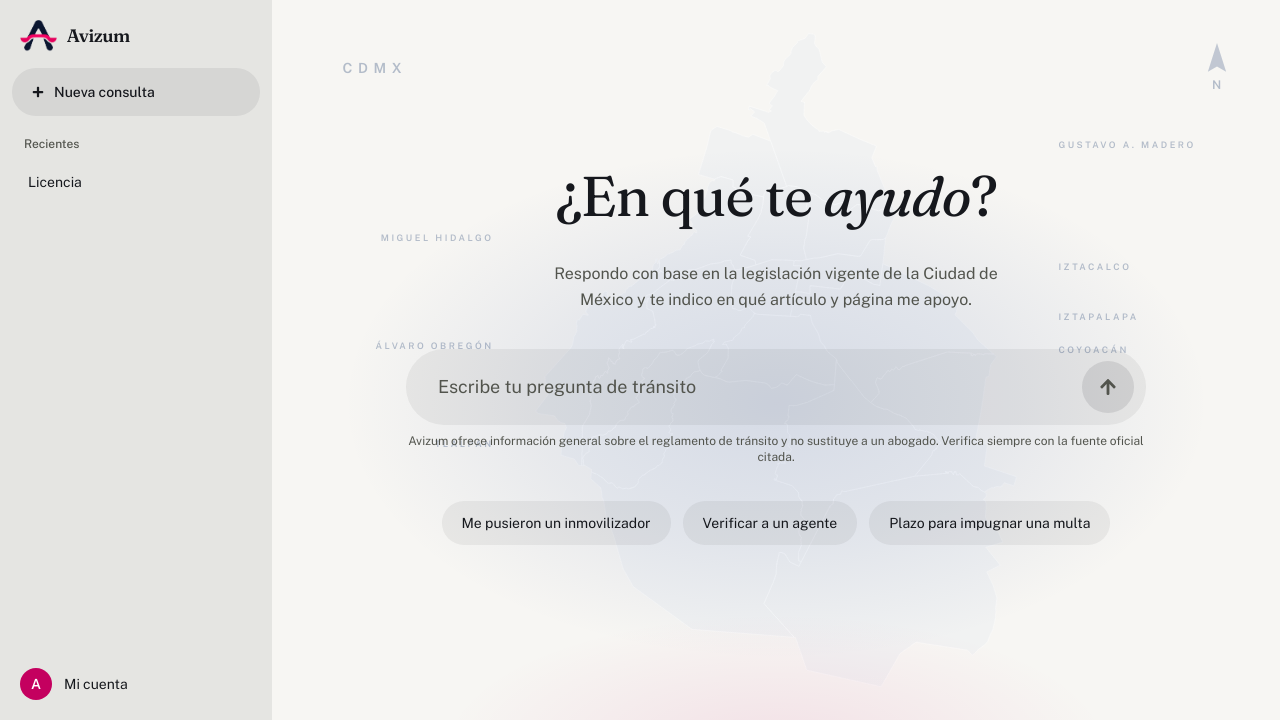
Scenario: opening an existing conversation shows its saved messages with citations and votes
Click the button "Licencia" at {"x": 107, "y": 182}, box [12,160,202,204]
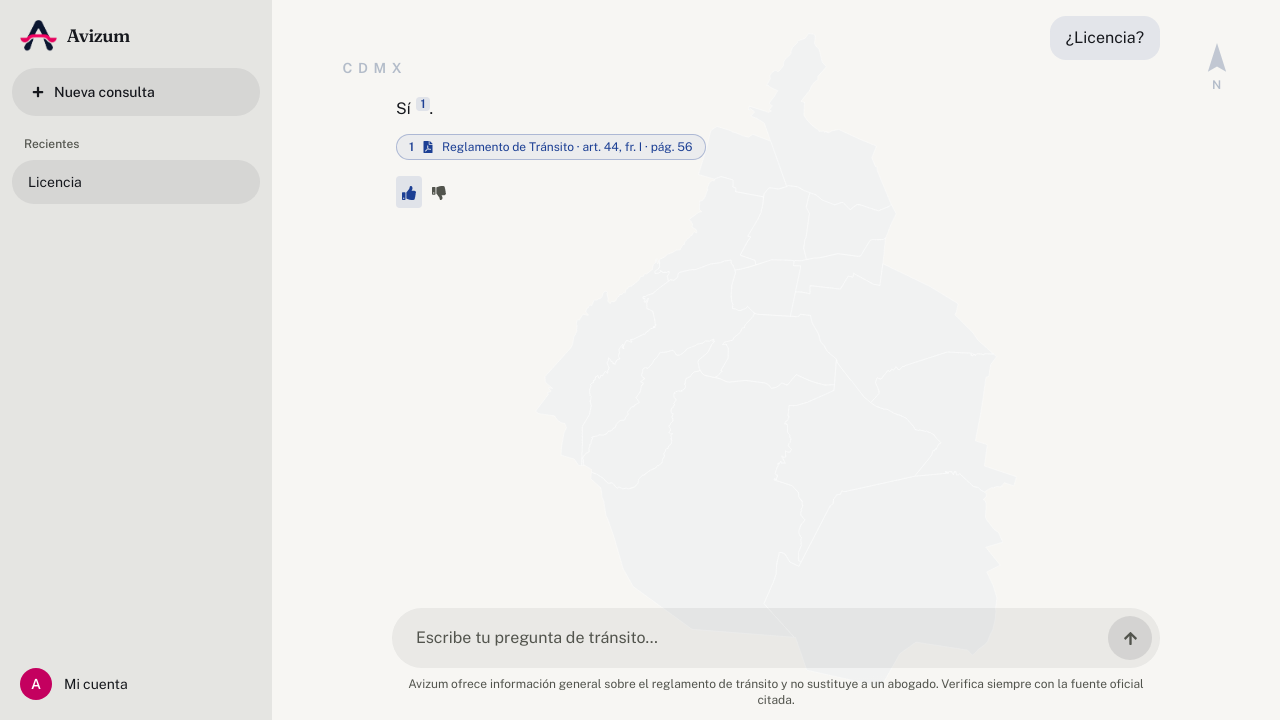
Result: the text "¿Licencia?" is shown at [1050,16,1160,60]
Result: the link named "Reglamento de Tránsito" is shown at [416,97,430,111]
